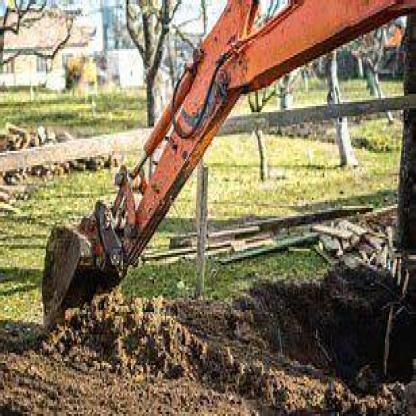excavator: (29, 2, 414, 332)
